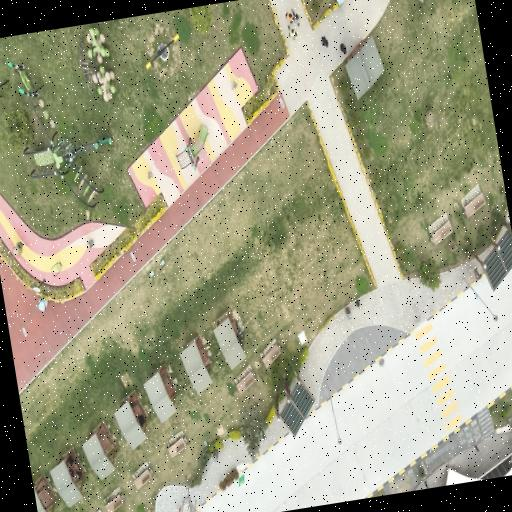person: (287, 25, 295, 38), (291, 10, 298, 24), (339, 42, 346, 53), (320, 36, 327, 46), (285, 11, 292, 21)
